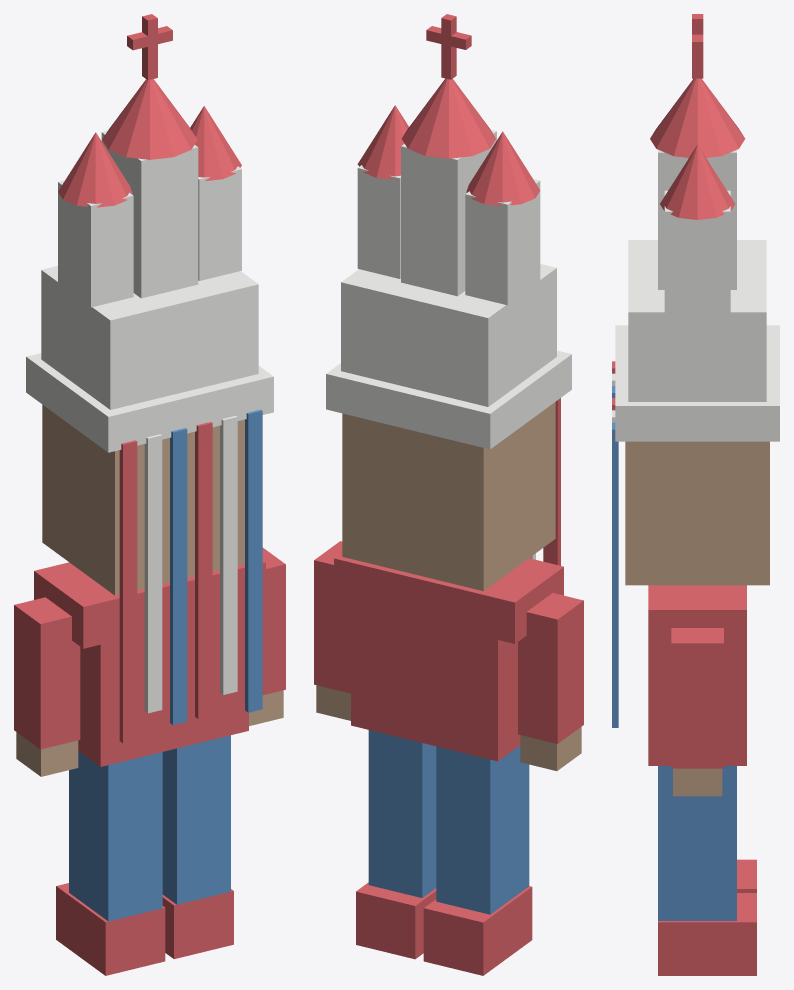
Rendered from mestre_blockout.glb.
3 views of the same model, side by side, from view 1: azimuth 30°, elevation 25°; view 2: azimuth 150°, elevation 25°; view 3: azimuth 270°, elevation 25° (orthographic).
Parts seen in each view (by area): view 1: Mestre, perna_dir, perna_esq, braco_dir, fita_5, fita_0, fita_3, fita_2, fita_4, fita_1, braco_esq; view 2: Mestre, perna_dir, perna_esq, braco_dir, braco_esq, fita_5; view 3: Mestre, perna_esq, braco_esq, fita_0, perna_dir.
Part boxes in pixels (left/top/right/bottom): Mestre: left=26, top=14, right=273, bottom=766; perna_dir: left=56, top=751, right=165, bottom=975; perna_esq: left=162, top=735, right=233, bottom=959; braco_dir: left=14, top=597, right=80, bottom=776; fita_5: left=119, top=440, right=137, bottom=743; fita_0: left=245, top=409, right=262, bottom=712; fita_3: left=170, top=428, right=187, bottom=724; fita_2: left=195, top=422, right=212, bottom=718; fita_4: left=144, top=434, right=162, bottom=713; fita_1: left=220, top=416, right=237, bottom=694; braco_esq: left=249, top=547, right=285, bottom=725; Mestre: left=326, top=14, right=571, bottom=761; perna_dir: left=423, top=745, right=532, bottom=975; perna_esq: left=356, top=730, right=436, bottom=959; braco_dir: left=518, top=593, right=583, bottom=770; braco_esq: left=314, top=541, right=350, bottom=720; fita_5: left=543, top=398, right=560, bottom=565; Mestre: left=615, top=14, right=779, bottom=765; perna_esq: left=658, top=766, right=756, bottom=975; braco_esq: left=671, top=628, right=723, bottom=796; fita_0: left=612, top=422, right=618, bottom=727; perna_dir: left=737, top=859, right=756, bottom=892.
Size of the model in its own units: 0.86 by 3.11 by 0.51.
